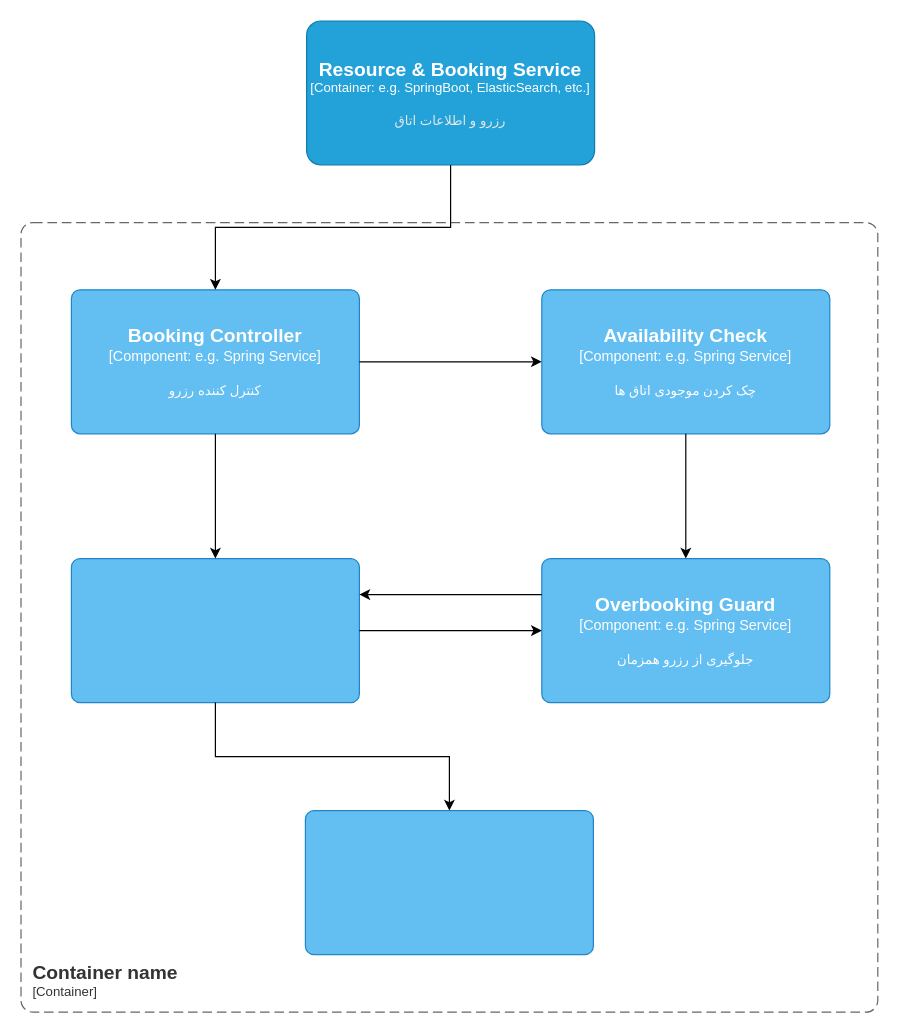
Some shapes in this 899 by 1033 pixel diagram are drawn without their labels. The centre of each missing label's shape, as x and y in pixels:
Booking Manager [Component: e.g. Spring Service] مدیریت رزرو: point 214,630
Booking Repository [Component: e.g. Spring Service] اطلاعات رزرو: point 448,882
